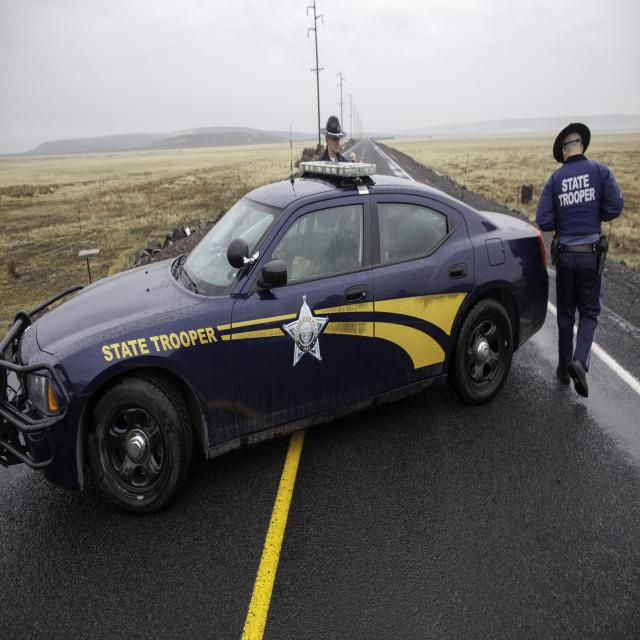cop: (0, 162, 541, 511)
